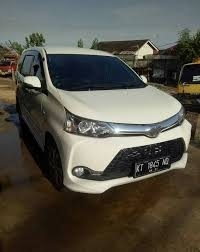plate: (135, 156, 171, 176)
